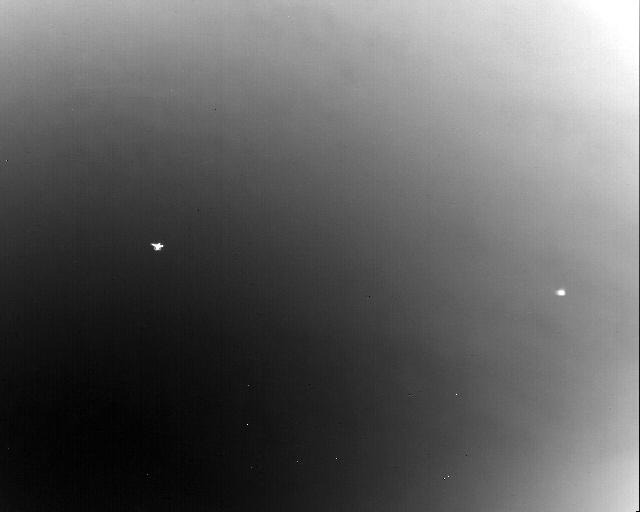plane: (151, 243, 164, 251)
